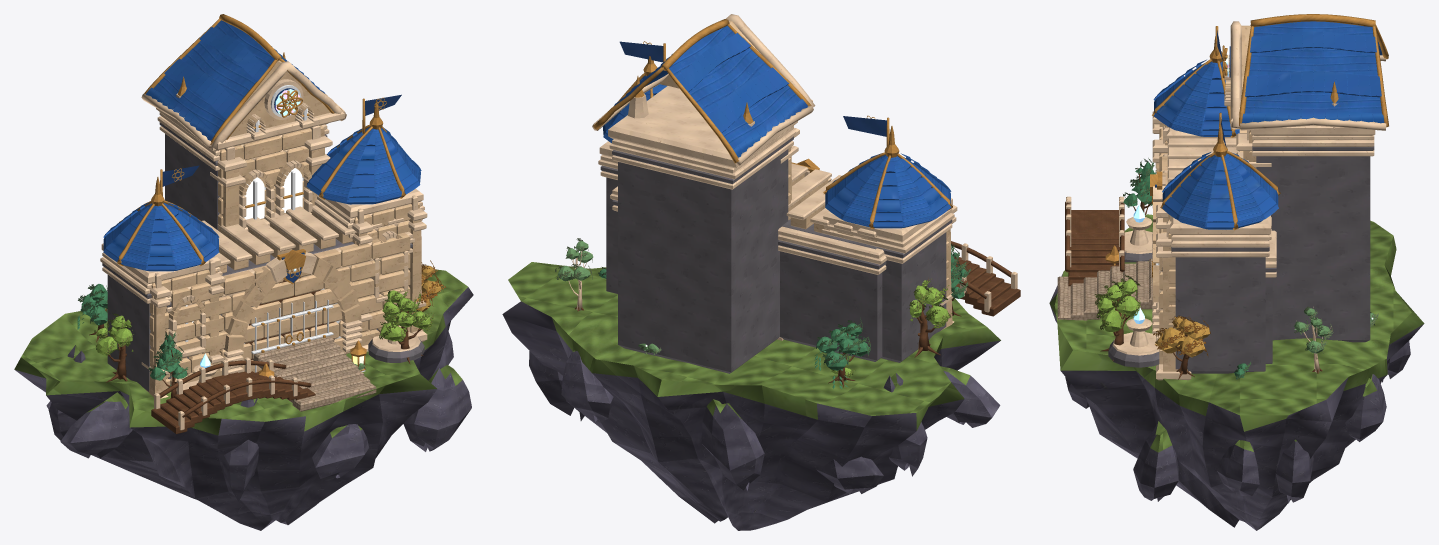
Rendered from island-0-low.glb.
3 renders of one model, left to right at view 1: azimuth 30°, elevation 25°; view 2: azimuth 150°, elevation 25°; view 3: azimuth 270°, elevation 25°, orthographic. The views are drawn at different scales.
Visible parts, largest first — view 1: Stratified cliffs and meadow / cliff, Architecture / stone, Architecture / trim, Architecture / roof, Stratified cliffs and meadow / top, Architecture / joint, Architecture / wood, Architecture / gold, Architecture / paving, Canopy oak / leaves, Canopy oak / sprays, Architecture / iron (+2 smaller); view 2: Architecture / joint, Stratified cliffs and meadow / cliff, Stratified cliffs and meadow / top, Architecture / trim, Architecture / roof, Architecture / gold, Canopy oak / leaves, Architecture / wood, Canopy oak / sprays, Architecture / stone, Architecture / cloth; view 3: Architecture / joint, Stratified cliffs and meadow / cliff, Architecture / roof, Stratified cliffs and meadow / top, Architecture / trim, Architecture / gold, Architecture / wood, Canopy oak / leaves, Architecture / paving, Architecture / stone, Canopy oak / sprays.
Boxes of the visible parts, x1,y1,x2,y2 form: Stratified cliffs and meadow / cliff: (15, 287, 473, 530); Architecture / stone: (145, 60, 423, 396); Architecture / trim: (100, 61, 427, 430); Architecture / roof: (103, 20, 421, 271); Stratified cliffs and meadow / top: (14, 269, 467, 437); Architecture / joint: (102, 122, 424, 391); Architecture / wood: (84, 268, 436, 434); Architecture / gold: (117, 14, 405, 377); Architecture / paving: (252, 336, 376, 411); Canopy oak / leaves: (77, 265, 441, 387); Canopy oak / sprays: (78, 260, 445, 379); Architecture / iron: (185, 109, 365, 372); Architecture / joint: (600, 136, 952, 373); Stratified cliffs and meadow / cliff: (502, 301, 1000, 530); Stratified cliffs and meadow / top: (508, 262, 1000, 430); Architecture / trim: (566, 14, 1017, 340); Architecture / roof: (597, 25, 951, 228); Architecture / gold: (593, 19, 952, 229); Canopy oak / leaves: (557, 241, 966, 389); Architecture / wood: (575, 241, 1020, 387); Canopy oak / sprays: (555, 238, 971, 377); Architecture / stone: (660, 21, 952, 330); Architecture / cloth: (619, 41, 886, 136); Architecture / joint: (1108, 146, 1374, 373); Stratified cliffs and meadow / cliff: (1050, 272, 1423, 530); Architecture / roof: (1153, 21, 1384, 229); Stratified cliffs and meadow / top: (1049, 214, 1424, 452); Architecture / trim: (1066, 21, 1386, 380); Architecture / gold: (1105, 14, 1388, 315); Architecture / wood: (1065, 168, 1322, 379); Canopy oak / leaves: (1097, 162, 1375, 377); Architecture / paving: (1057, 258, 1155, 320); Architecture / stone: (1153, 25, 1256, 371); Canopy oak / sprays: (1094, 158, 1378, 379).
Size of the model in its own units: 6.04 by 6.4 by 4.25.
Materials: 21 (12 with a texture image).
